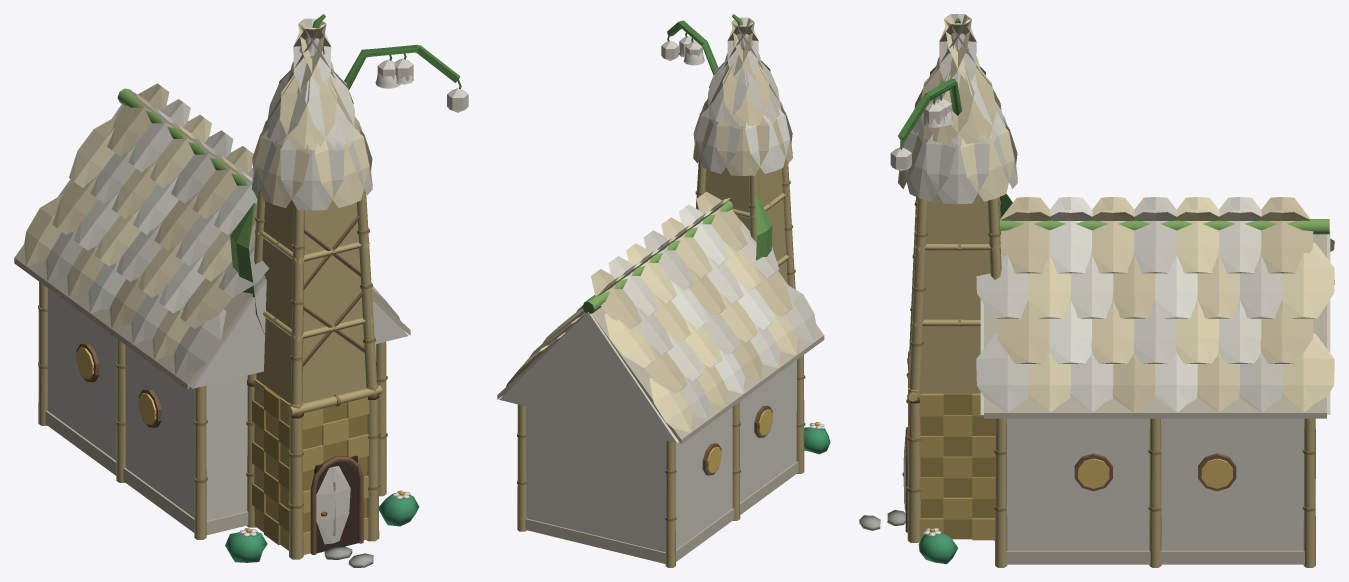
File: chapel.glb
3 views of the same model, side by side, from view 1: azimuth 30°, elevation 25°; view 2: azimuth 150°, elevation 25°; view 3: azimuth 270°, elevation 25° (orthographic). The views are drawn at different scales.
Parts seen in each view (by area): view 1: body_nl, body, body__far; view 2: body_nl, body, body__far; view 3: body_nl, body, body__far.
Boxes of the visible parts, x1,y1,x2,y2 form: body_nl: (14,18,419,562); body: (38,14,467,567); body__far: (112,44,468,487); body_nl: (497,17,830,454); body: (517,14,805,567); body__far: (499,20,787,442); body_nl: (898,14,1334,564); body: (859,18,1315,567); body__far: (890,78,1330,414).
Size of the model in its own units: 2.63 by 5.5 by 4.62.
